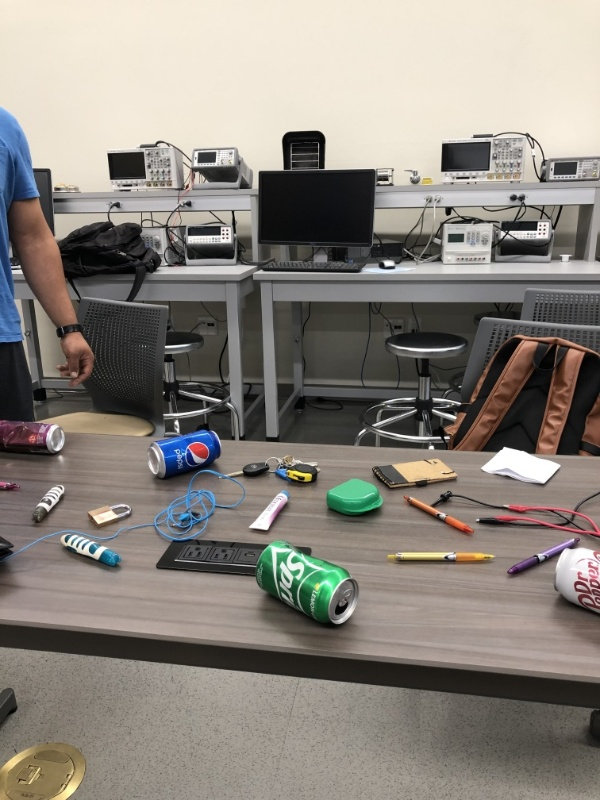can: (248, 536, 361, 628), (147, 428, 225, 480), (554, 544, 600, 620), (1, 415, 67, 458)
